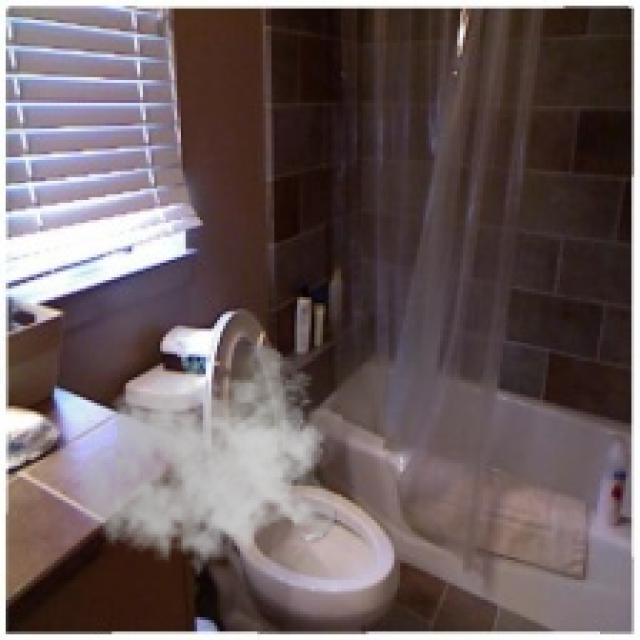Smoke: (77, 346, 343, 586)
